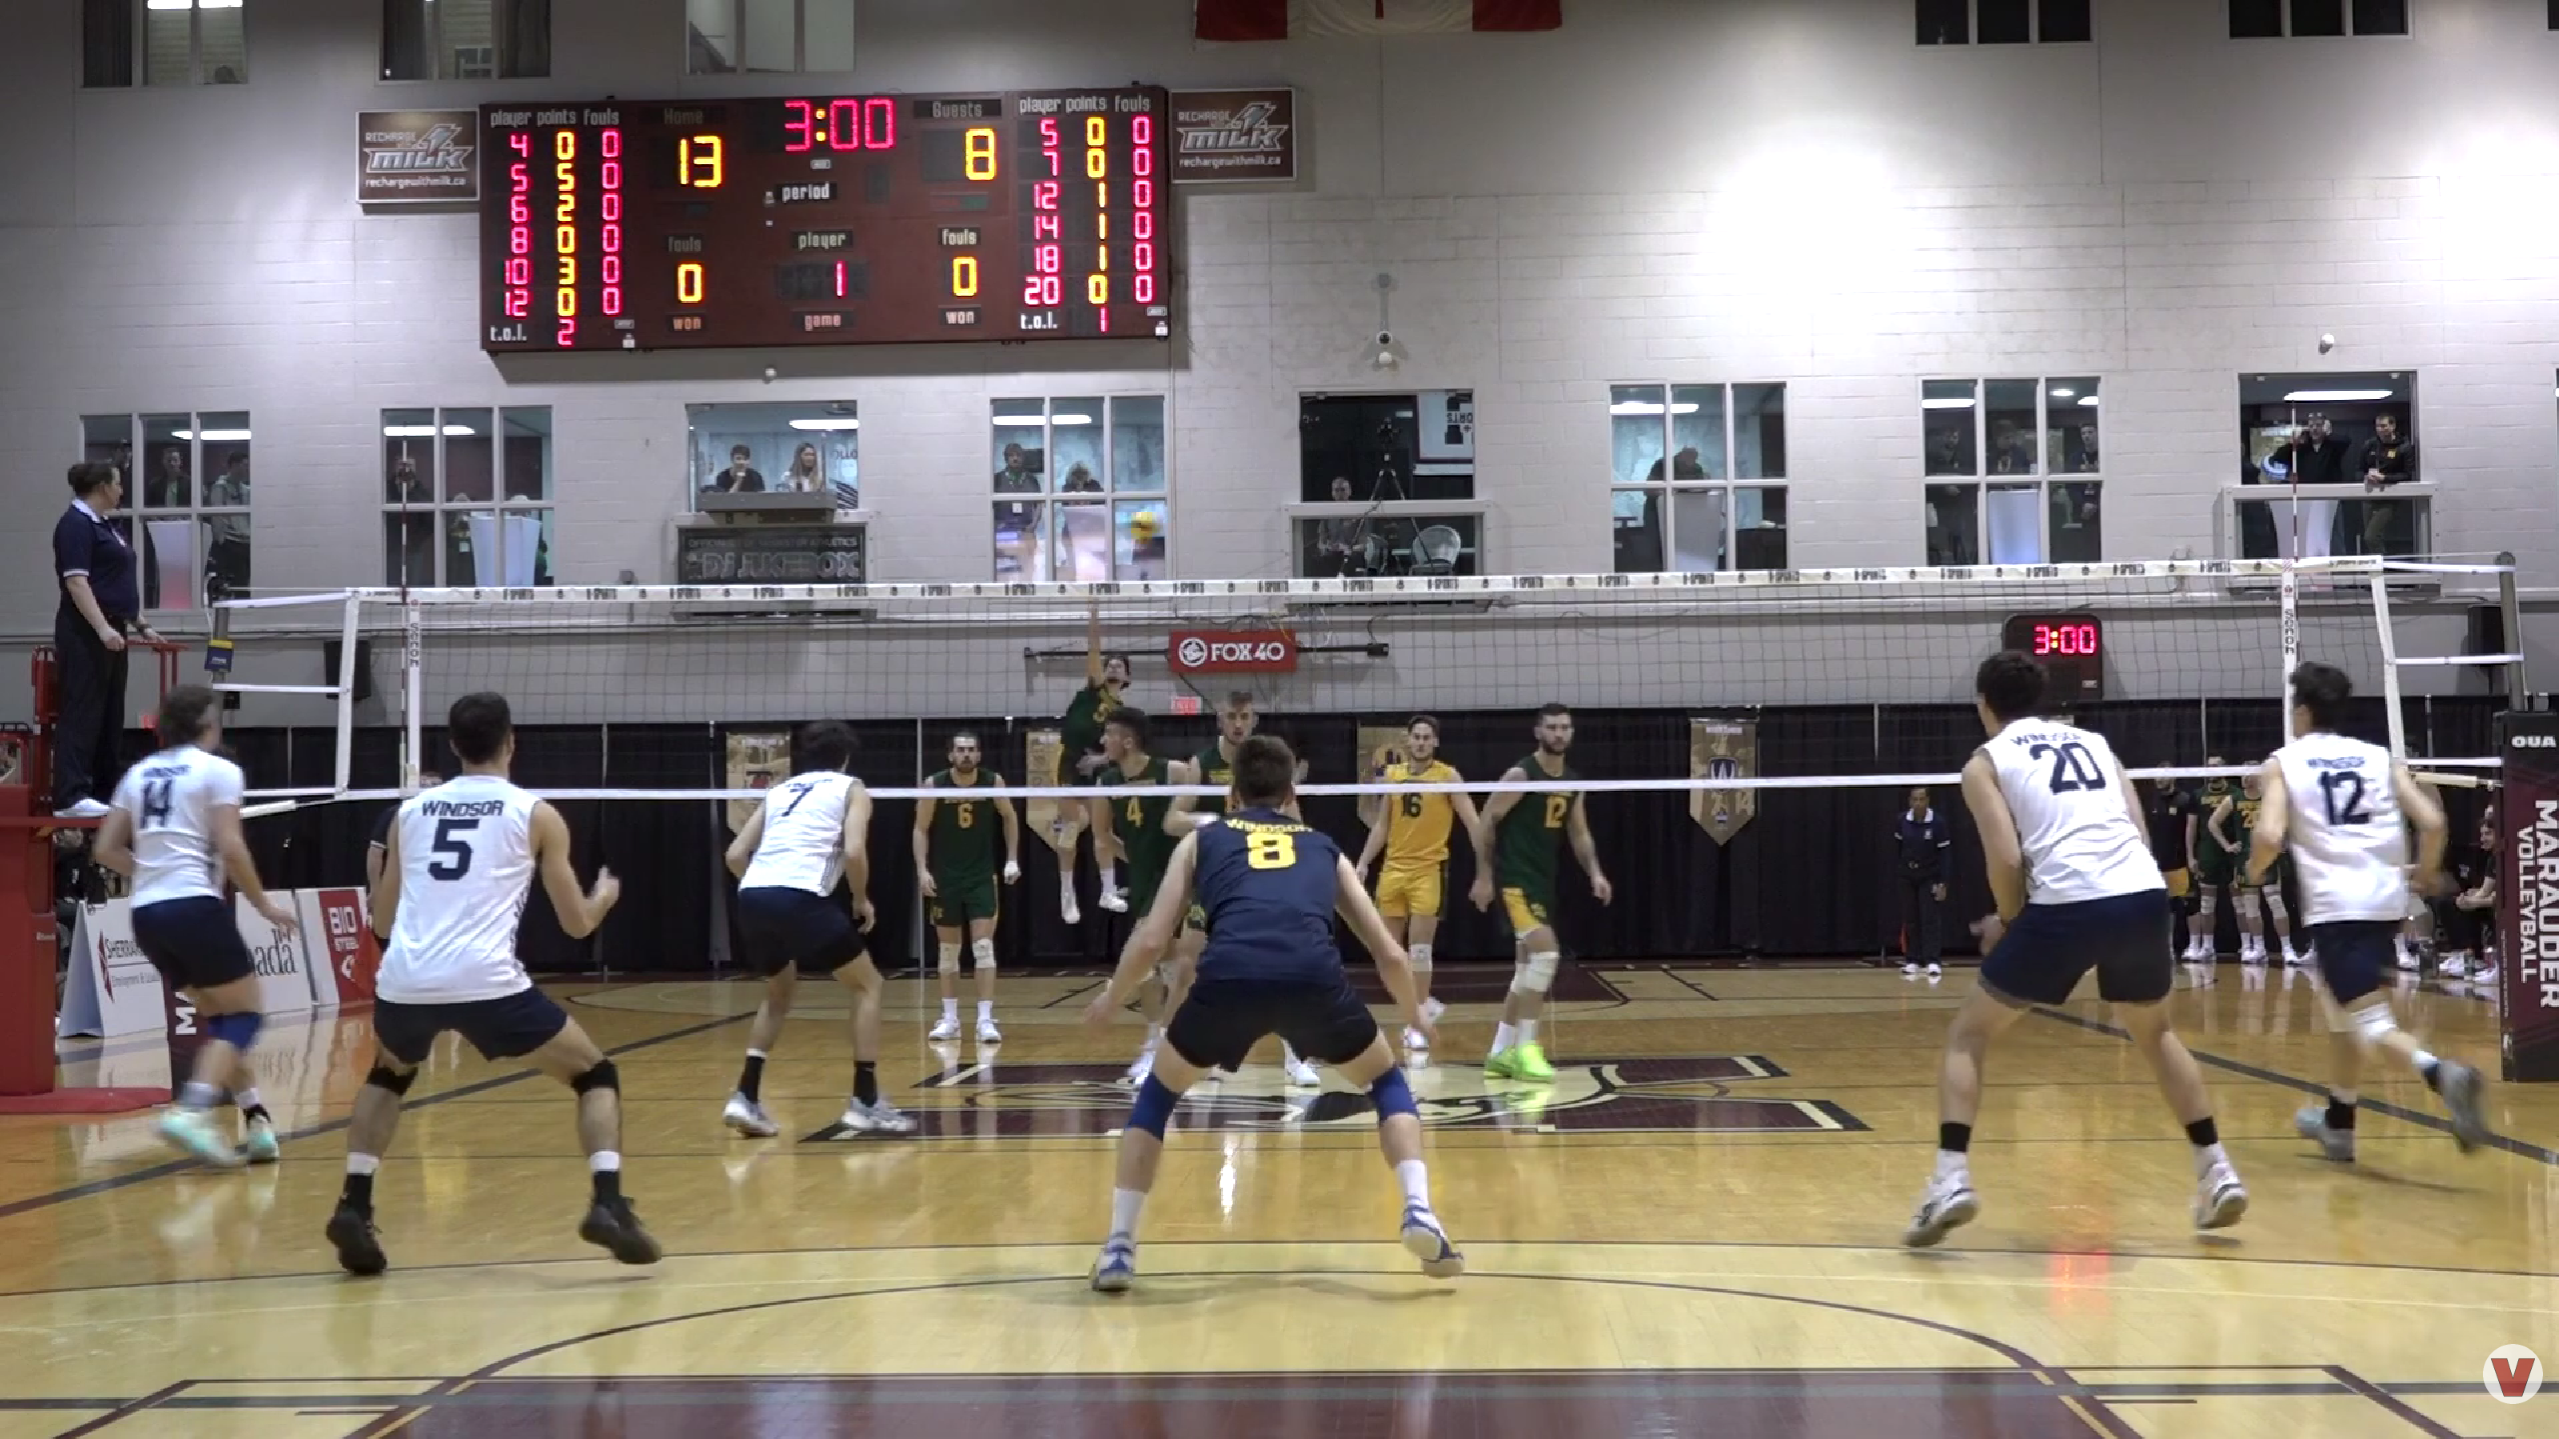Ball: (1127, 510, 1160, 543)
